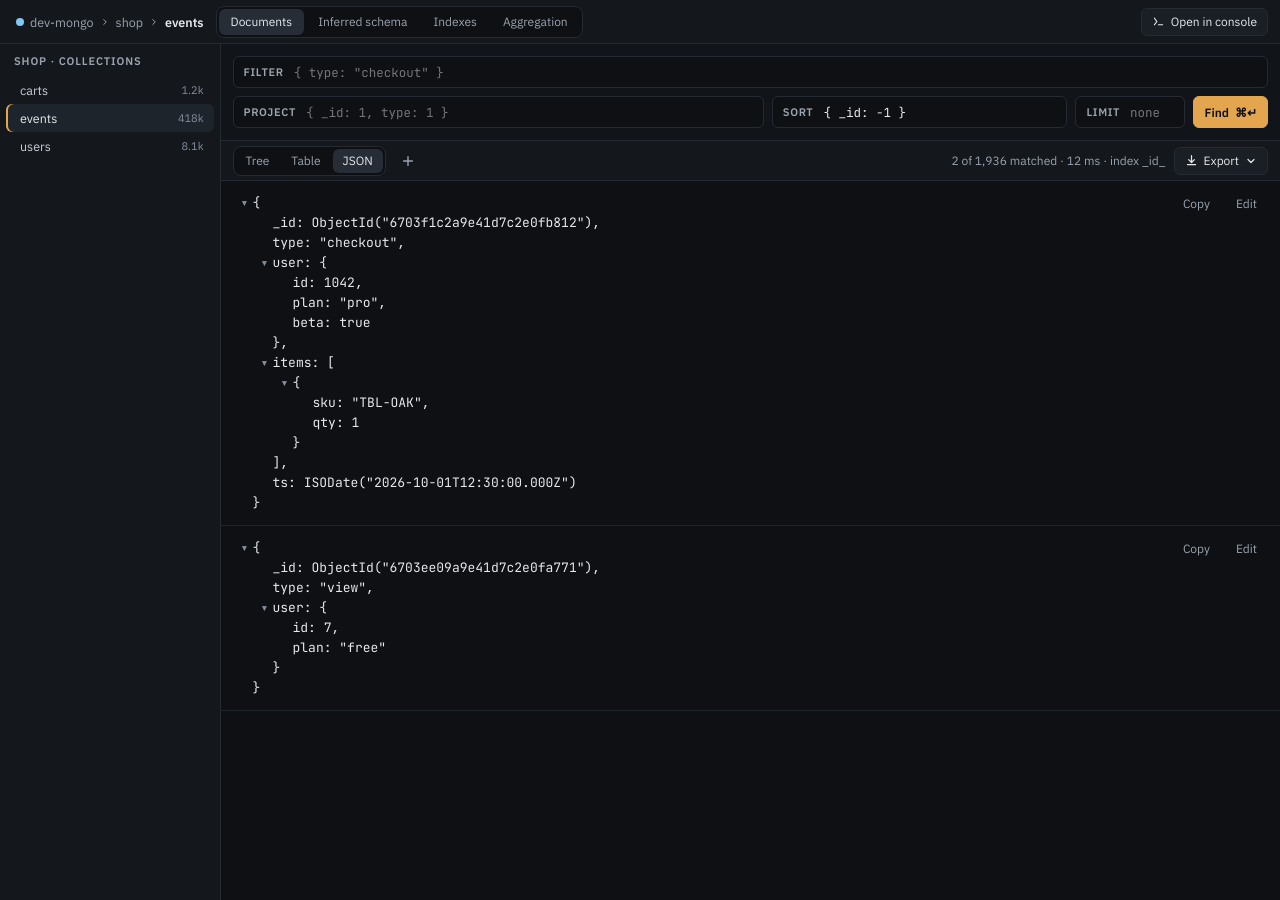
Test: views › shows the JSON view in shell syntax and folds objects
The width and height of the screenshot is (1280, 900).
Expected: the text "_id: ObjectId(\"6703f1c2a9e41d7c2e0fb812\")," is shown 2 times, [272,213,600,233]; [272,558,600,578]
Expected: the text "ts: ISODate(\"2026-10-01T12:30:00.000Z\")" is shown once, [272,473,577,493]
// fold the first document's `user` object
Click the button named "Fold": coordinates (264, 263) [256,253,272,273]
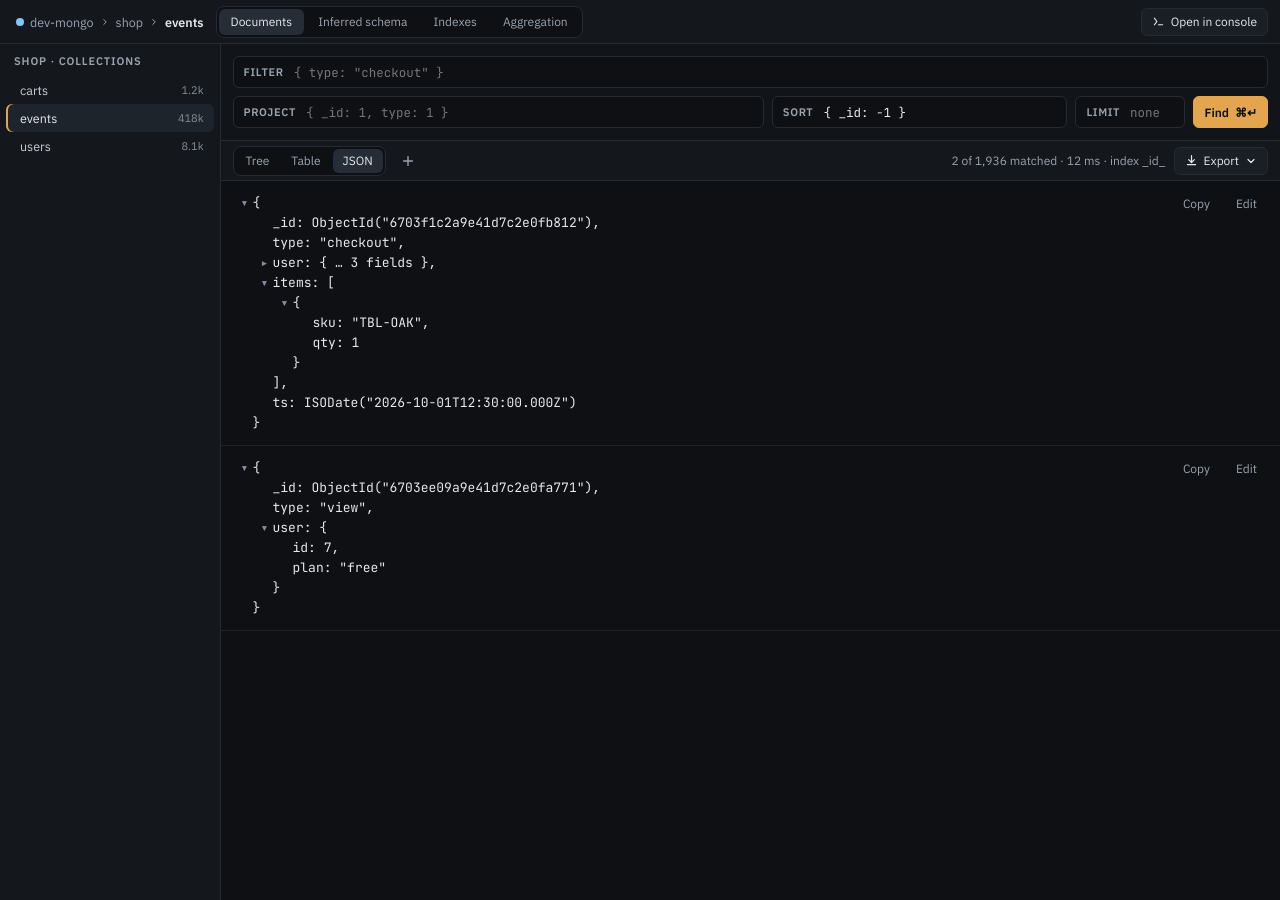
Result: the text "user: { … 3 fields }," is shown at [272,253,436,273]
